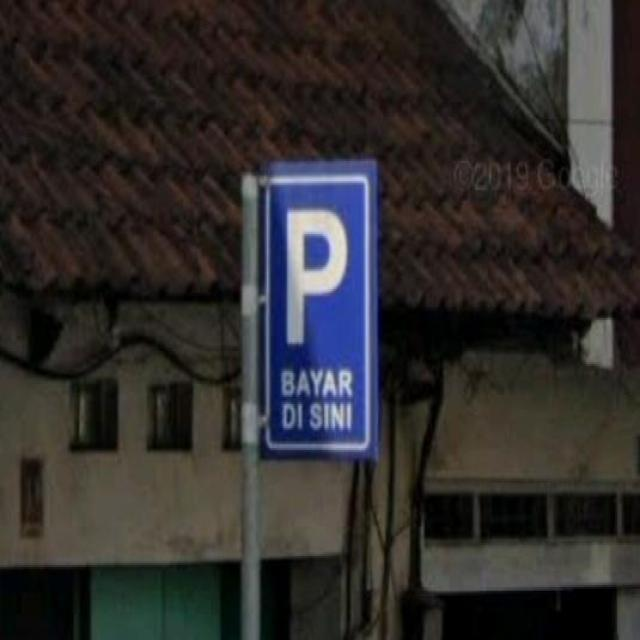traffic sign: (261, 161, 377, 456)
